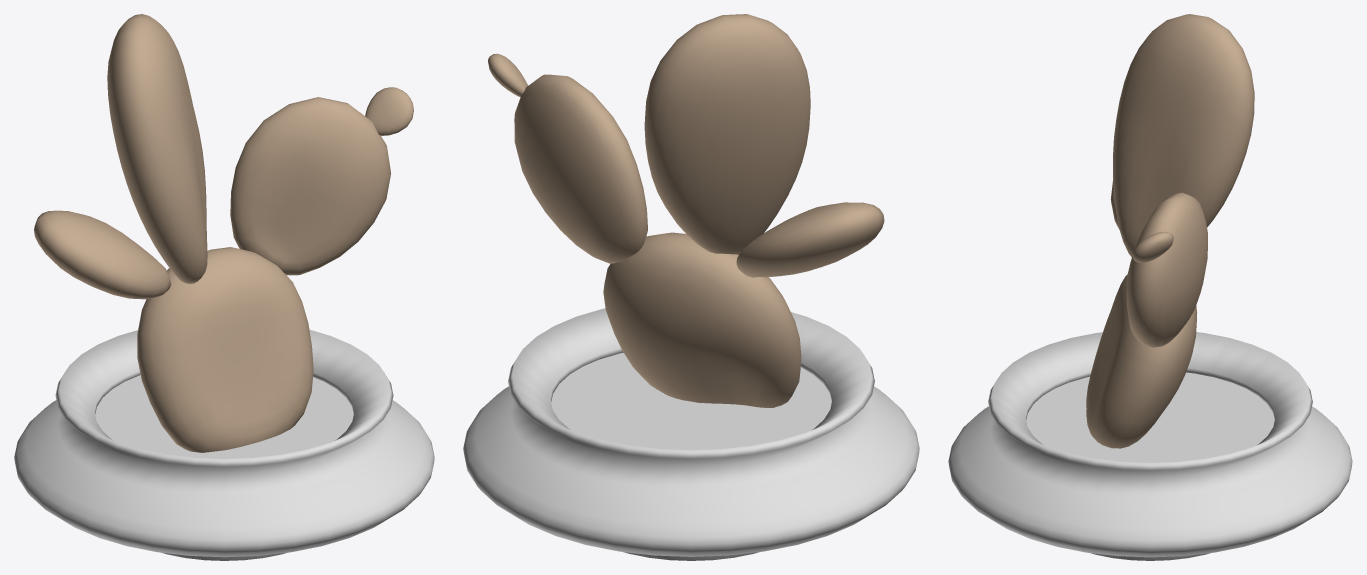
The model's file is CatcusLowpoly.fbx.
The picture shows the model from 3 angles, left to right: view 1: azimuth 30°, elevation 25°; view 2: azimuth 150°, elevation 25°; view 3: azimuth 270°, elevation 25°; orthographic projection. The views are drawn at different scales.
Parts seen in each view (by area): view 1: Cactus; view 2: Cactus; view 3: Cactus.
Boxes of the visible parts, x1,y1,x2,y2 form: Cactus: (14,14,434,560); Cactus: (463,14,919,560); Cactus: (948,14,1352,560).
Bounding box in the file's own units: 276 × 351 × 273.
